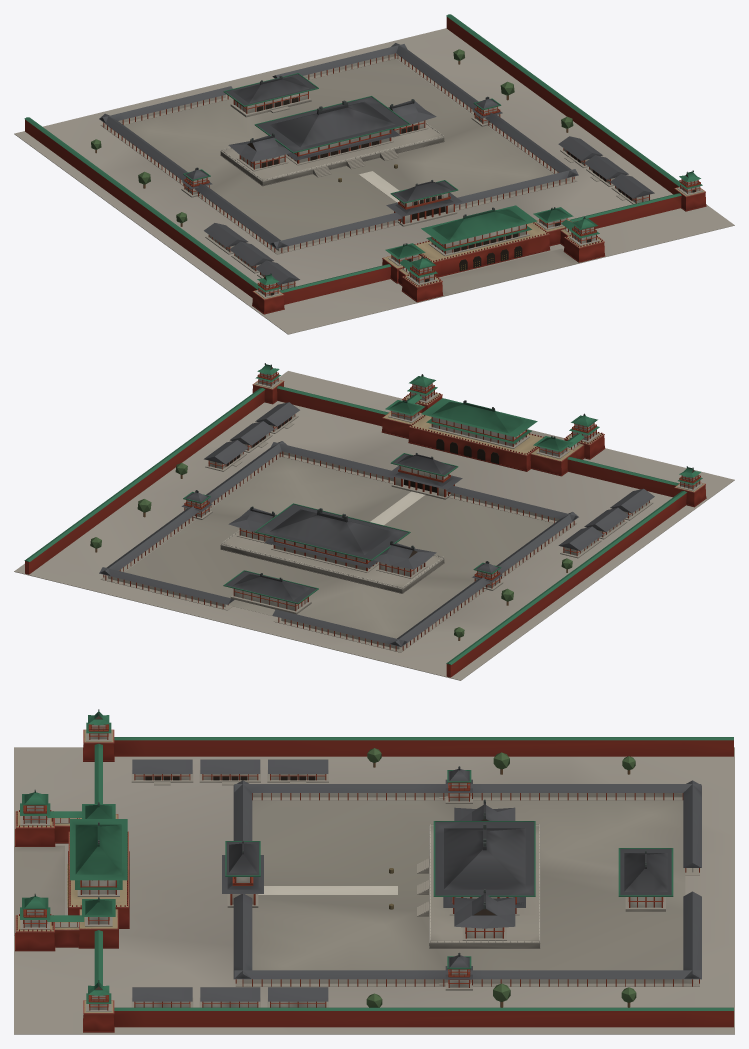
File: song-palace.glb
3 renders of one model, top to bottom at view 1: azimuth 30°, elevation 25°; view 2: azimuth 150°, elevation 25°; view 3: azimuth 270°, elevation 25°, orthographic. The views are drawn at different scales.
Parts seen in each view (by area): view 1: p0_terraces, p2_trees, p1_halls; view 2: p0_terraces, p2_trees, p1_halls; view 3: p0_terraces, p2_trees, p1_halls.
Boxes of the visible parts, <box> form: p0_terraces: <box>14,14,734,334</box>; p2_trees: <box>91,49,702,292</box>; p1_halls: <box>181,91,706,314</box>; p0_terraces: <box>14,371,734,680</box>; p2_trees: <box>90,363,702,640</box>; p1_halls: <box>184,372,706,614</box>; p0_terraces: <box>14,737,734,1034</box>; p2_trees: <box>20,709,673,1007</box>; p1_halls: <box>20,724,665,1032</box>.
Size of the model in its own units: 320 by 31.09 by 340.
